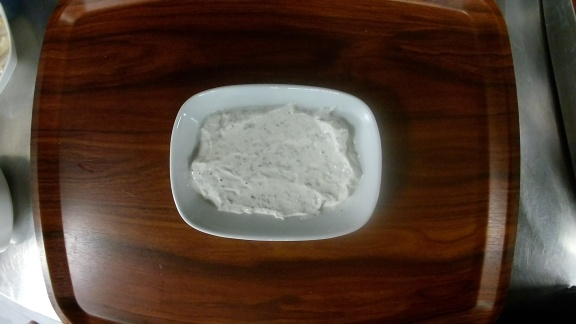haydari: (169, 83, 384, 242)
